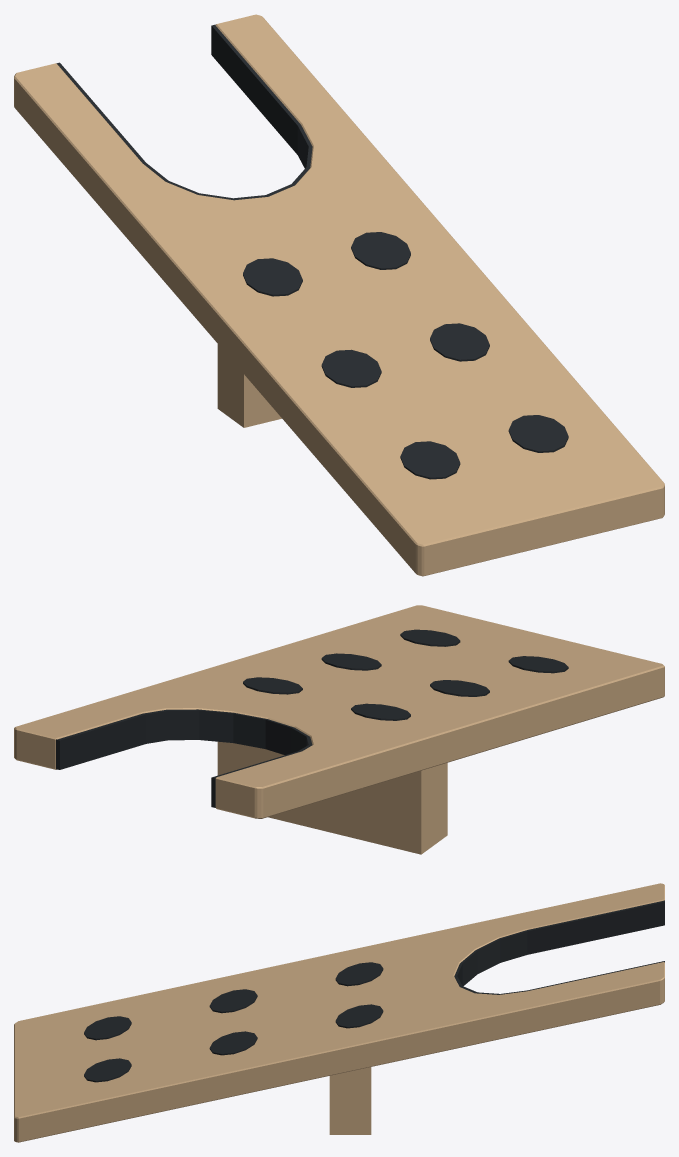
3 renders of one model, top to bottom at view 1: azimuth 30°, elevation 25°; view 2: azimuth 150°, elevation 25°; view 3: azimuth 270°, elevation 25°, orthographic. The views are drawn at different scales.
Visible parts, largest first — view 1: Inclined_solid_wood_board_with_open_heel_fork, Backed_U_shaped_rubber_heel_liner, Transverse_wood_support_seated_under_board, Circular_rubber_tread_pad_1_2, Circular_rubber_tread_pad_2_1, Circular_rubber_tread_pad_3_1, Circular_rubber_tread_pad_1_1, Circular_rubber_tread_pad_2_2, Circular_rubber_tread_pad_3_2; view 2: Inclined_solid_wood_board_with_open_heel_fork, Transverse_wood_support_seated_under_board, Backed_U_shaped_rubber_heel_liner, Circular_rubber_tread_pad_2_2, Circular_rubber_tread_pad_1_2, Circular_rubber_tread_pad_3_2, Circular_rubber_tread_pad_3_1, Circular_rubber_tread_pad_1_1, Circular_rubber_tread_pad_2_1; view 3: Inclined_solid_wood_board_with_open_heel_fork, Backed_U_shaped_rubber_heel_liner, Transverse_wood_support_seated_under_board, Circular_rubber_tread_pad_2_2, Circular_rubber_tread_pad_3_2, Circular_rubber_tread_pad_1_1, Circular_rubber_tread_pad_1_2, Circular_rubber_tread_pad_2_1, Circular_rubber_tread_pad_3_1.
Boxes of the visible parts, <box> form: Inclined_solid_wood_board_with_open_heel_fork: <box>14,14,664,576</box>; Backed_U_shaped_rubber_heel_liner: <box>56,24,312,200</box>; Transverse_wood_support_seated_under_board: <box>217,344,281,427</box>; Circular_rubber_tread_pad_1_2: <box>508,415,568,452</box>; Circular_rubber_tread_pad_2_1: <box>321,349,381,387</box>; Circular_rubber_tread_pad_3_1: <box>243,258,302,296</box>; Circular_rubber_tread_pad_1_1: <box>400,441,460,479</box>; Circular_rubber_tread_pad_2_2: <box>430,323,489,361</box>; Circular_rubber_tread_pad_3_2: <box>351,232,410,269</box>; Inclined_solid_wood_board_with_open_heel_fork: <box>14,605,664,818</box>; Transverse_wood_support_seated_under_board: <box>217,741,447,854</box>; Backed_U_shaped_rubber_heel_liner: <box>56,709,312,807</box>; Circular_rubber_tread_pad_2_2: <box>321,653,381,670</box>; Circular_rubber_tread_pad_1_2: <box>400,629,460,646</box>; Circular_rubber_tread_pad_3_2: <box>243,677,302,694</box>; Circular_rubber_tread_pad_3_1: <box>351,703,410,720</box>; Circular_rubber_tread_pad_1_1: <box>508,656,568,673</box>; Circular_rubber_tread_pad_2_1: <box>430,680,489,696</box>; Inclined_solid_wood_board_with_open_heel_fork: <box>14,883,664,1142</box>; Backed_U_shaped_rubber_heel_liner: <box>454,900,664,994</box>; Transverse_wood_support_seated_under_board: <box>329,1067,371,1134</box>; Circular_rubber_tread_pad_2_2: <box>209,1031,257,1055</box>; Circular_rubber_tread_pad_3_2: <box>335,1004,383,1028</box>; Circular_rubber_tread_pad_1_1: <box>84,1016,131,1040</box>; Circular_rubber_tread_pad_1_2: <box>84,1058,131,1082</box>; Circular_rubber_tread_pad_2_1: <box>209,989,257,1013</box>; Circular_rubber_tread_pad_3_1: <box>335,962,383,986</box>.
Size of the model in its own units: 0.115 by 0.091 by 0.326.
